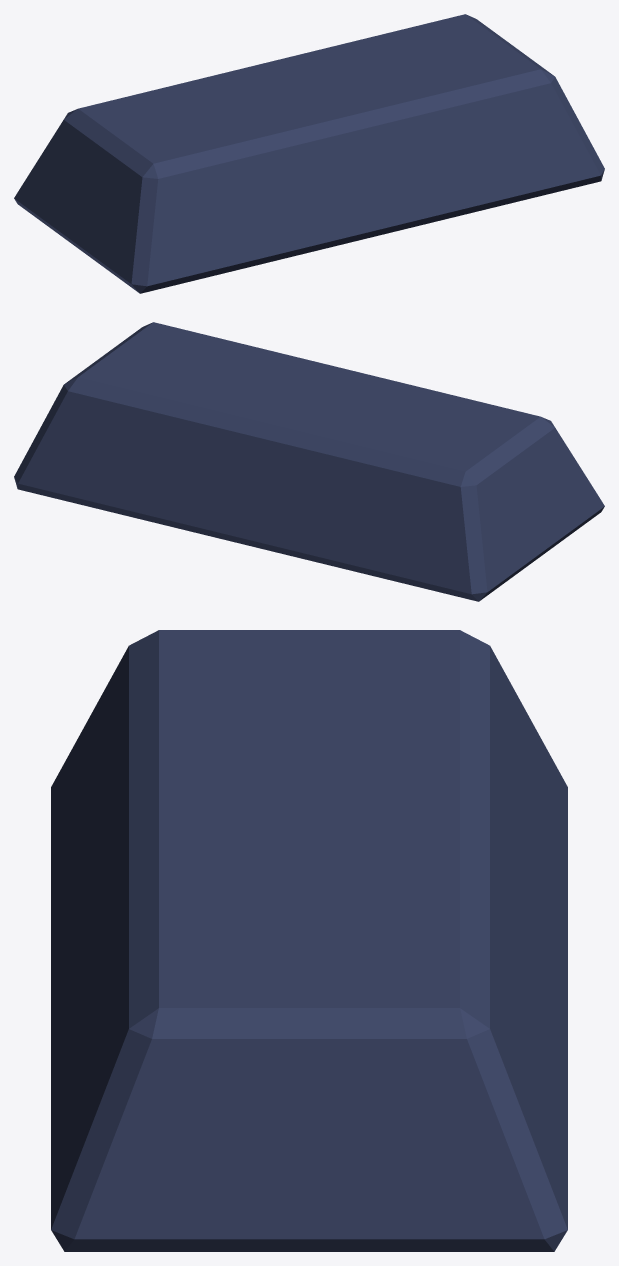
Rendered from Bar Iron 01.fbx.
3 renders of one model, top to bottom at view 1: azimuth 30°, elevation 25°; view 2: azimuth 150°, elevation 25°; view 3: azimuth 270°, elevation 25°, orthographic. The views are drawn at different scales.
Visible parts, largest first — view 1: Bar Iron 01; view 2: Bar Iron 01; view 3: Bar Iron 01.
Boxes of the visible parts, left/top/right/bottom form: Bar Iron 01: left=14, top=14, right=604, bottom=293; Bar Iron 01: left=14, top=322, right=604, bottom=601; Bar Iron 01: left=51, top=630, right=567, bottom=1251.
Size of the model in its own units: 50.31 by 10.54 by 23.78.
